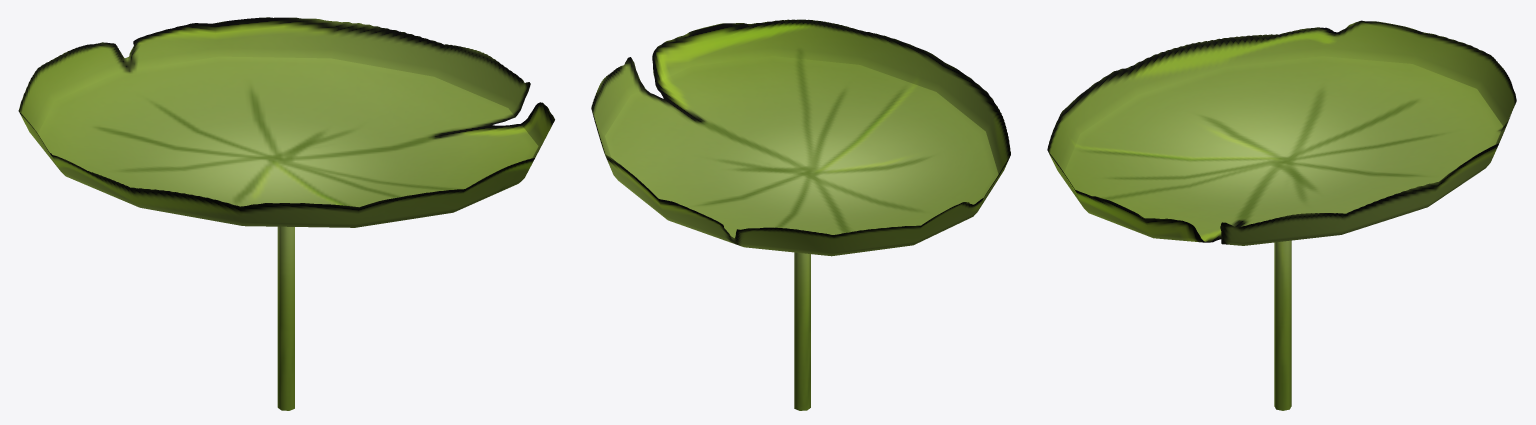
File: Moonset_FBX_nenuphar_02.fbx
3 views of the same model, side by side, from view 1: azimuth 30°, elevation 25°; view 2: azimuth 150°, elevation 25°; view 3: azimuth 270°, elevation 25° (orthographic). The views are drawn at different scales.
Visible parts, largest first — view 1: nenufar2; view 2: nenufar2; view 3: nenufar2.
Boxes of the visible parts, x1,y1,x2,y2 form: nenufar2: (18, 17, 554, 410); nenufar2: (591, 19, 1010, 410); nenufar2: (1047, 20, 1516, 410).
Bounding box in the file's own units: 1.83 × 1.2 × 1.79.
